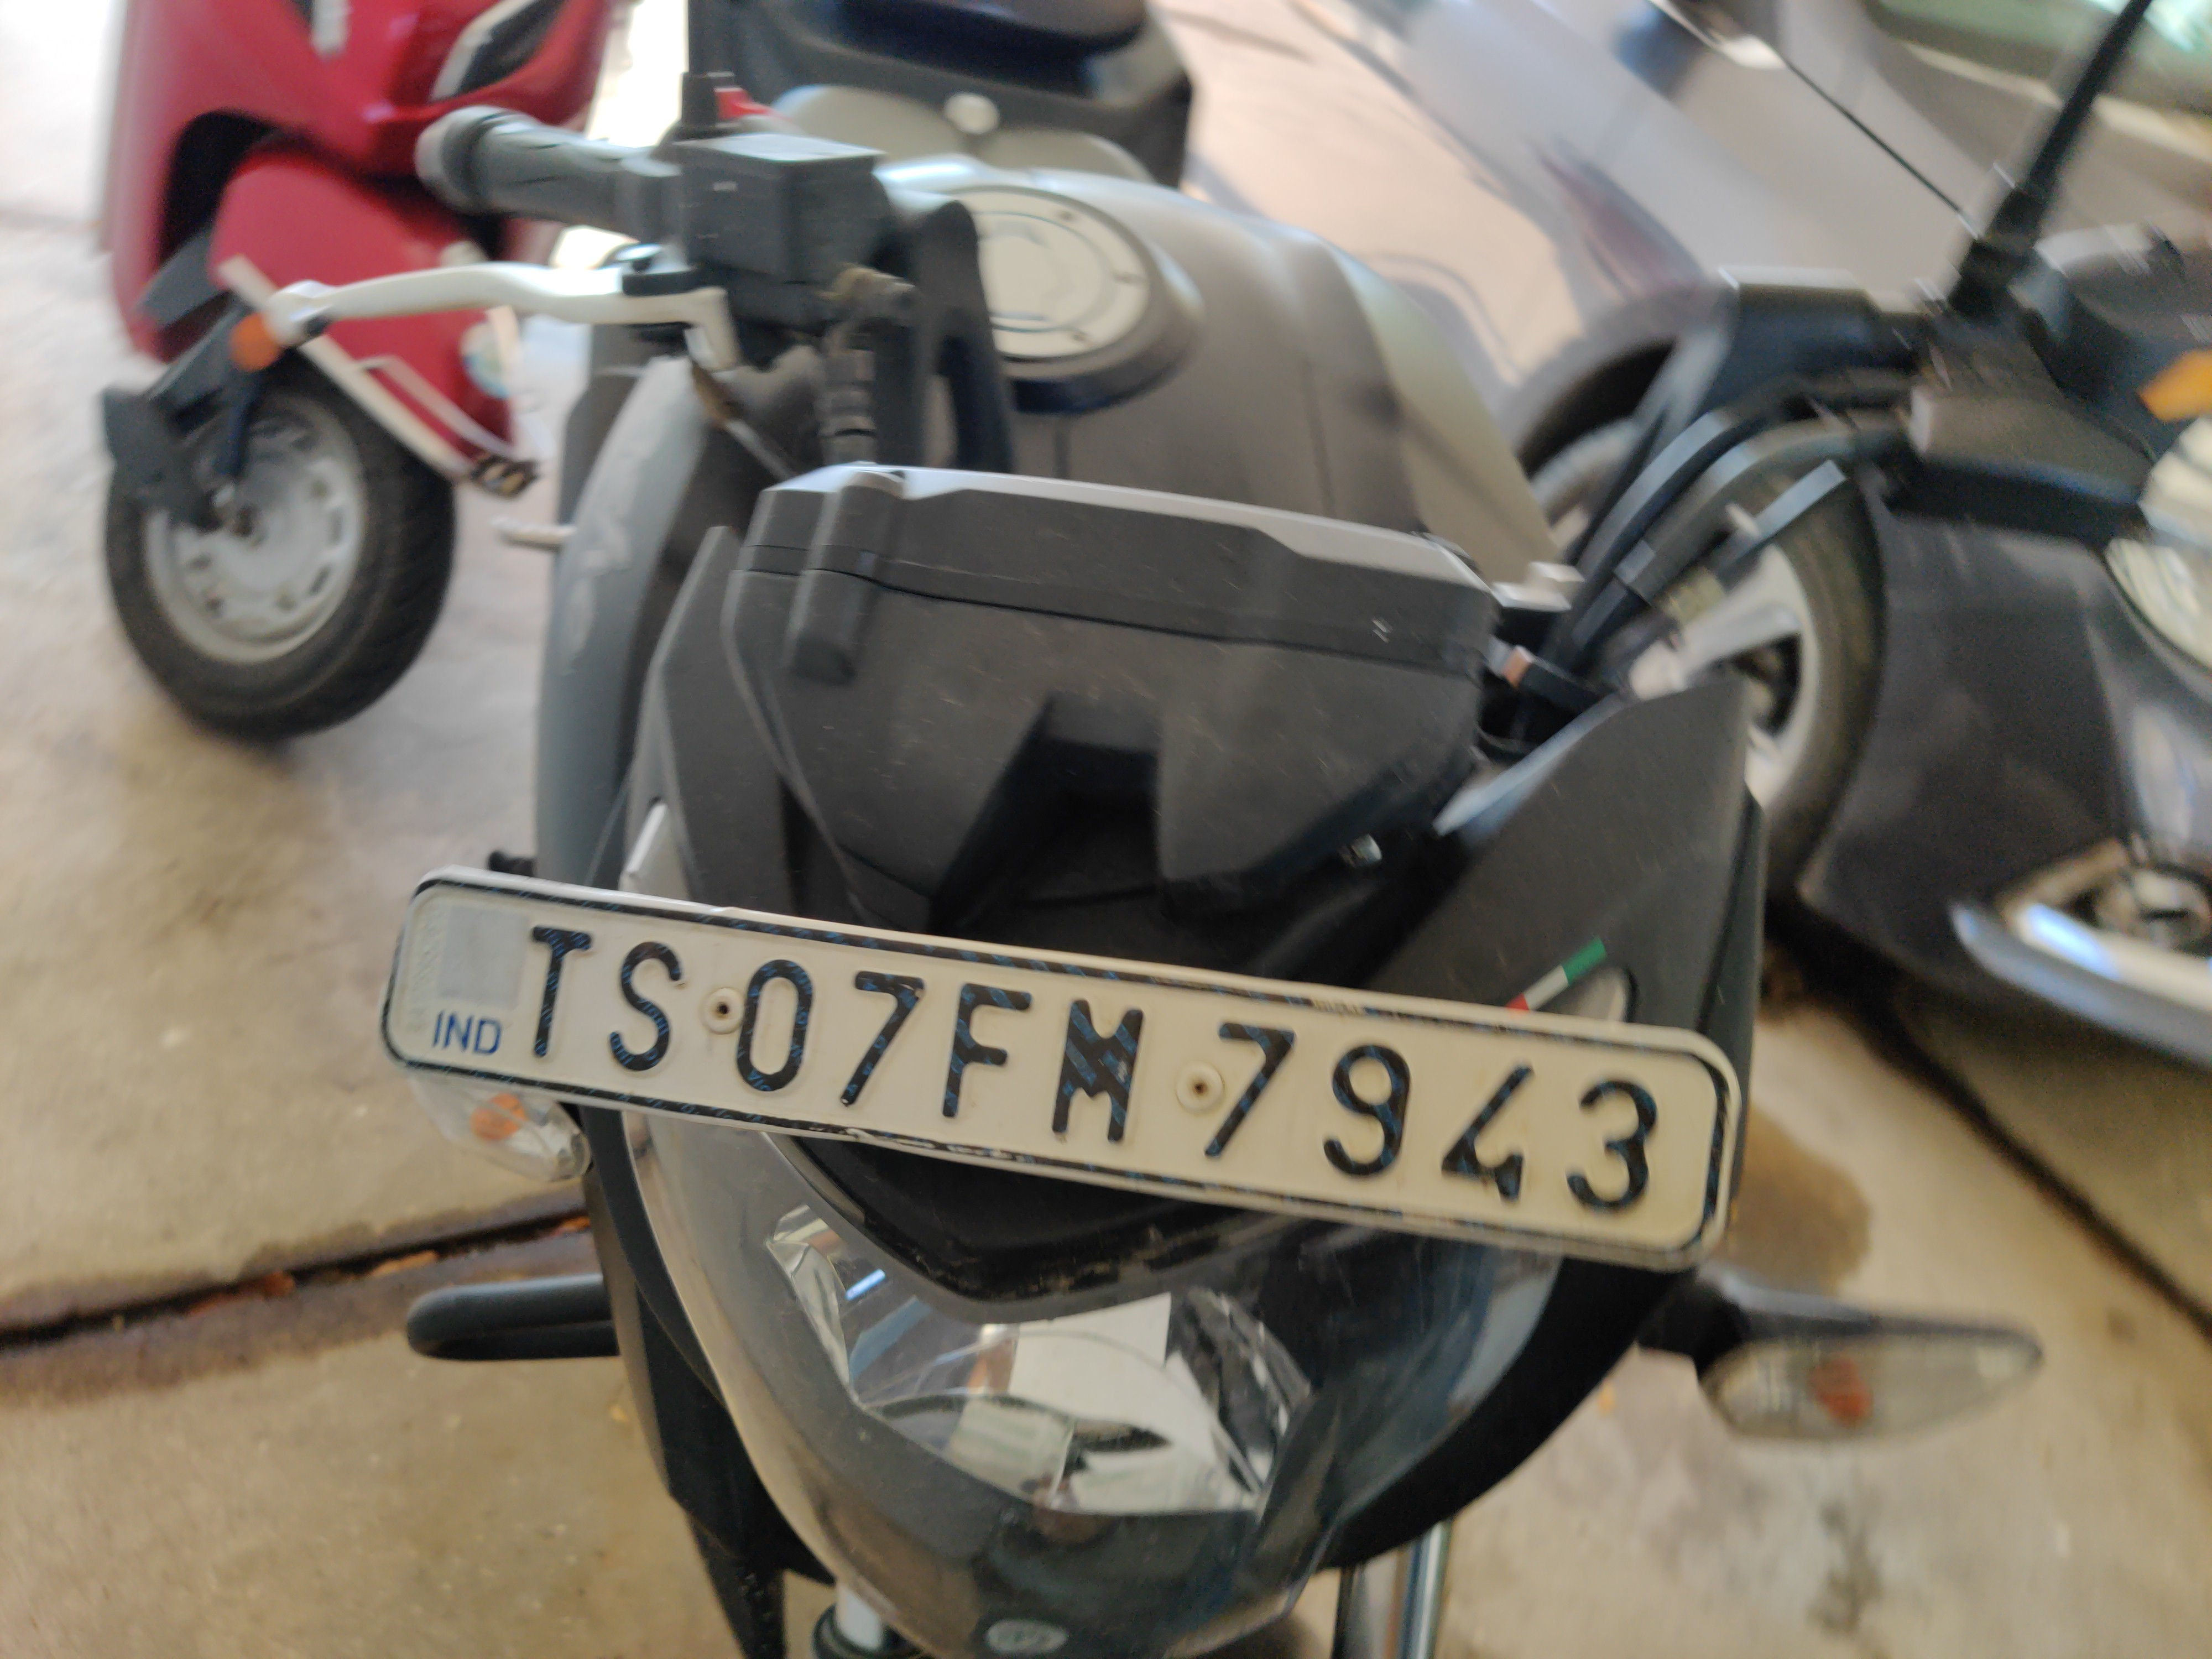plate: (359, 836, 1783, 1311)
